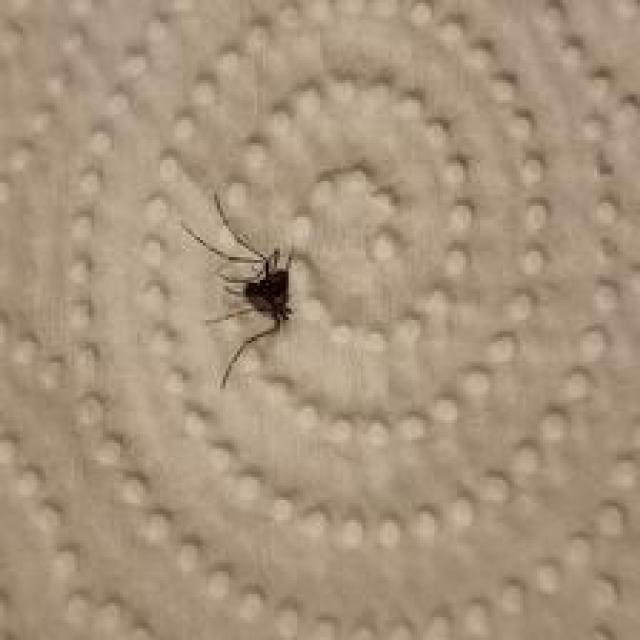Aedes albopictus: (177, 190, 300, 390)
